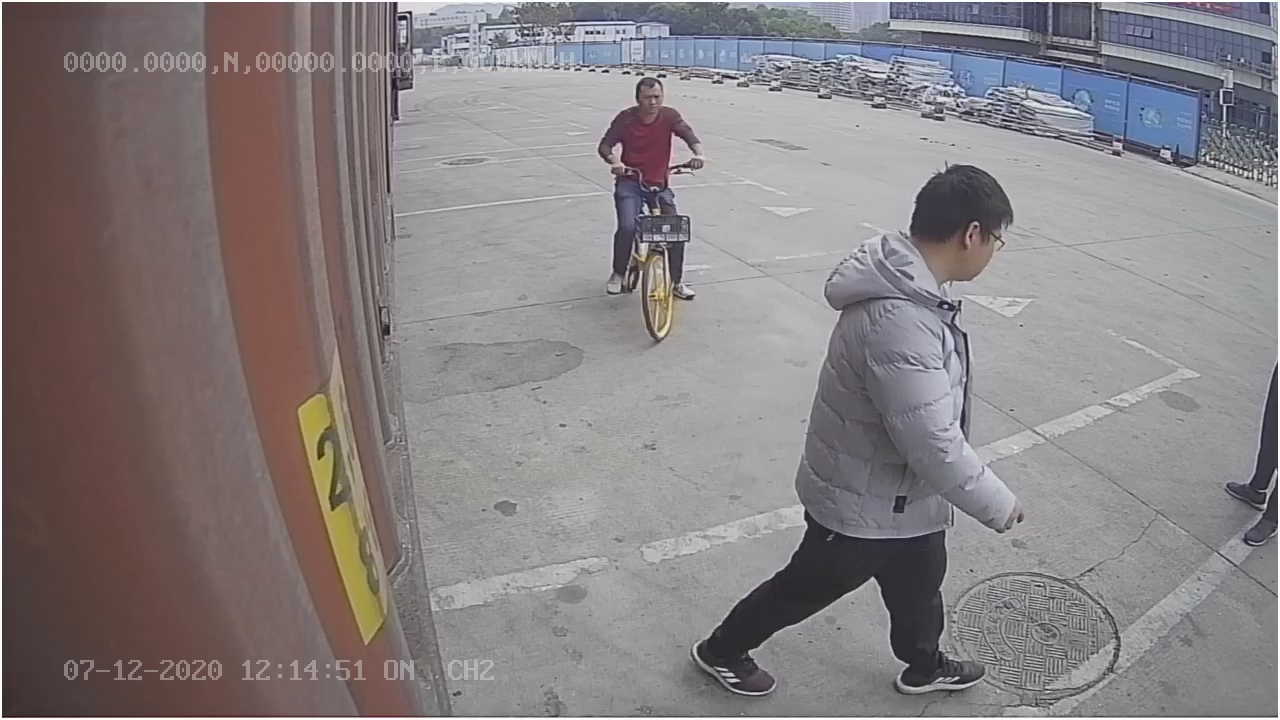person: (689, 147, 1025, 696)
